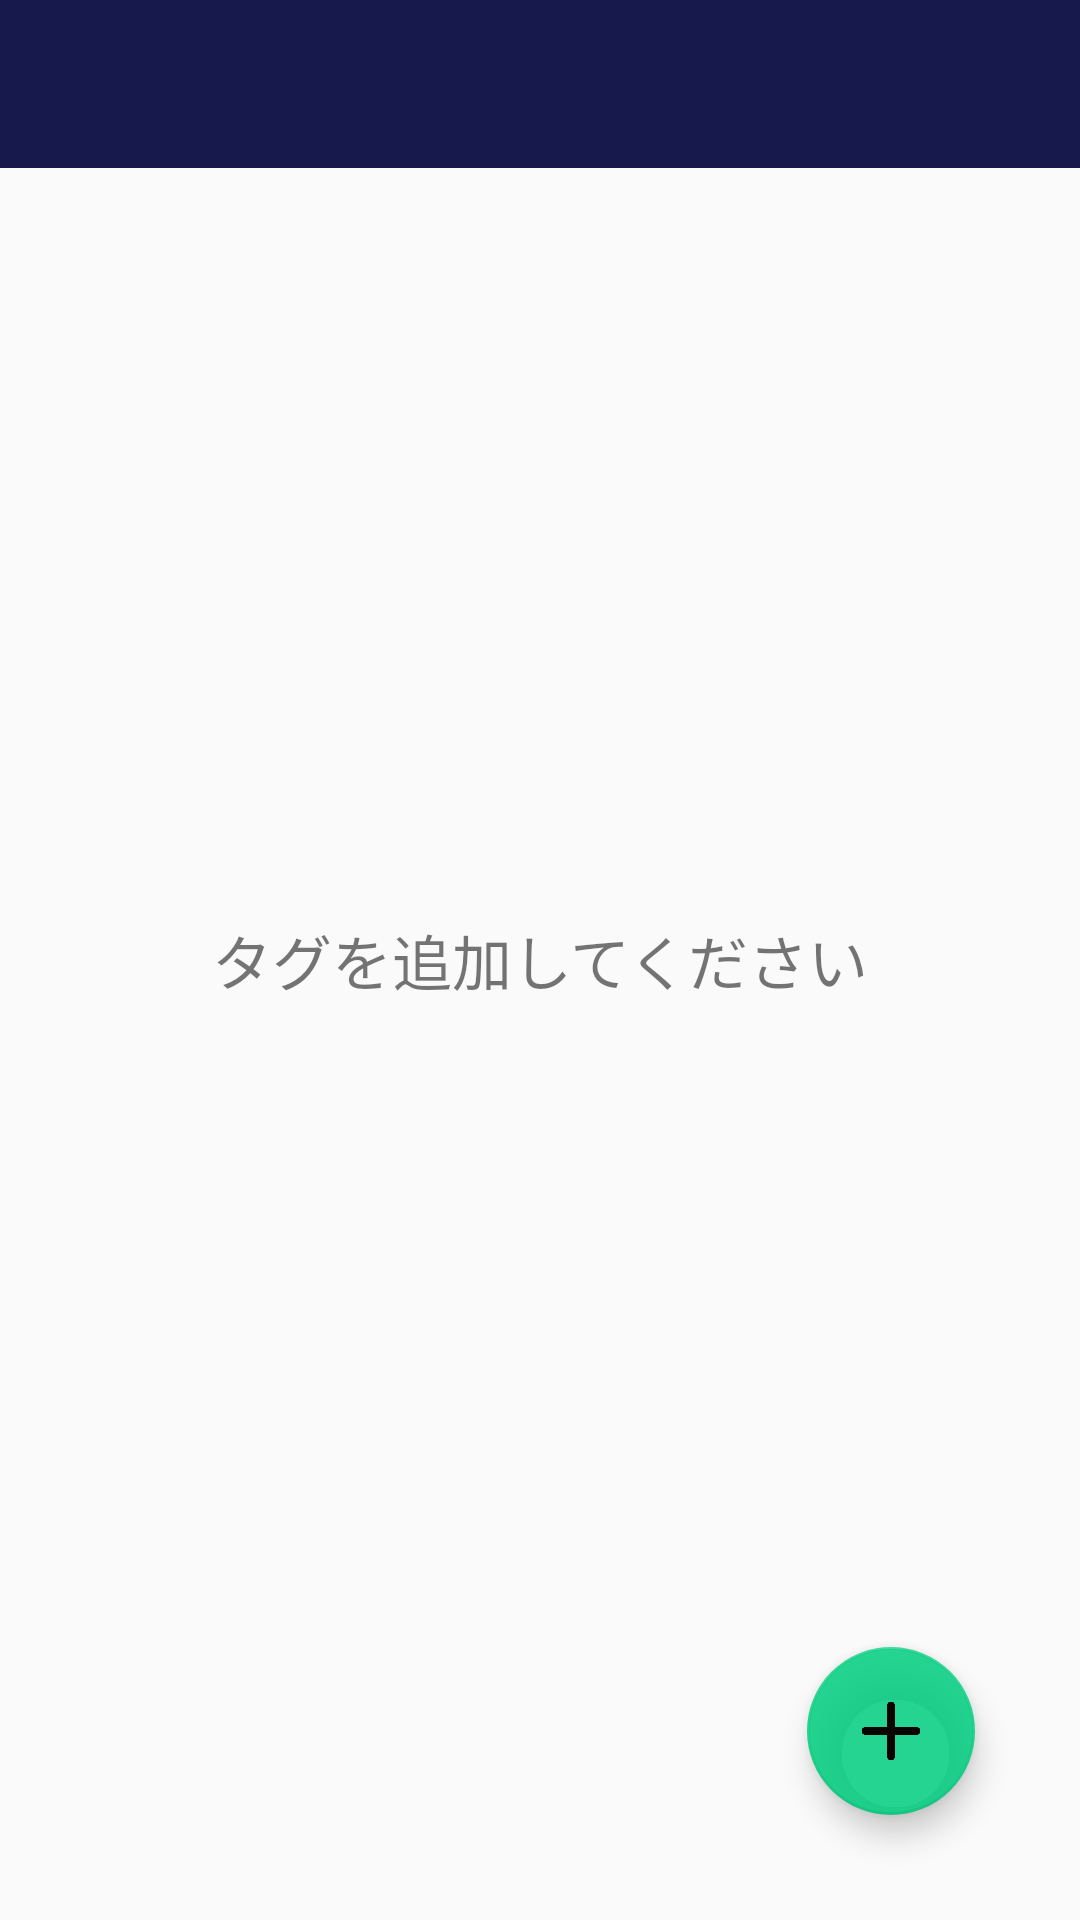

Icon bounding boxes for this 1080 x 1920 phone screenshot, format (x1, y1, x2, y2):
plusmark: (807, 1647, 975, 1815)
